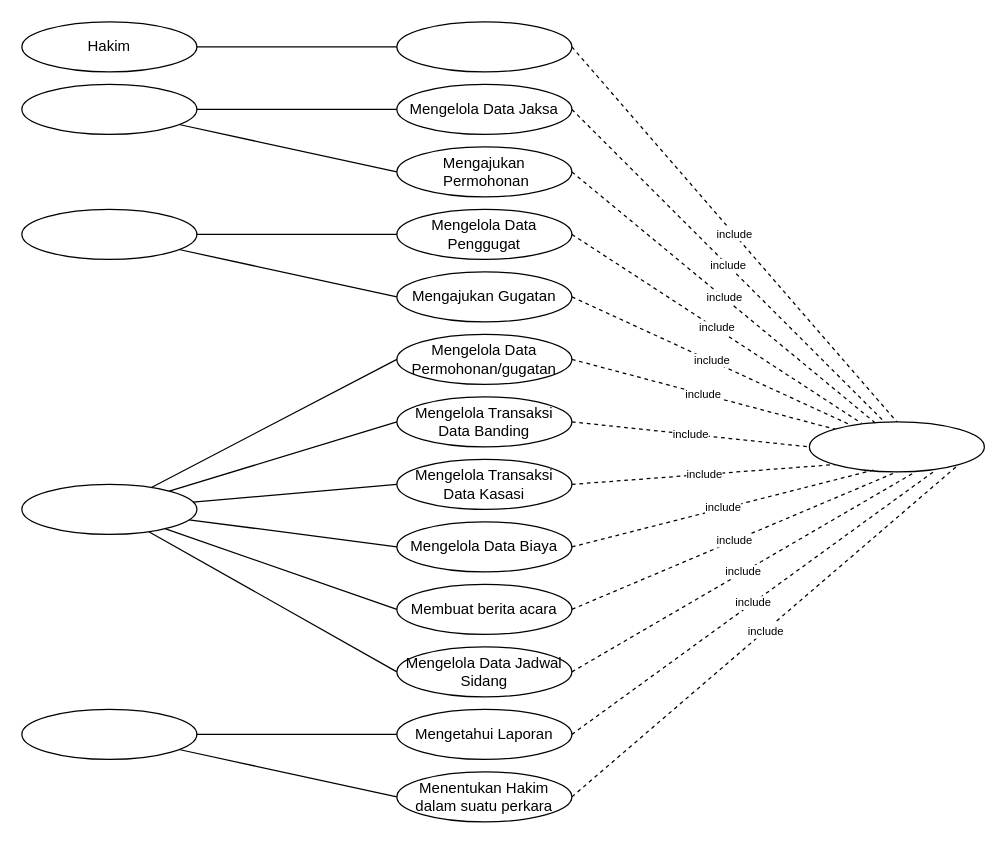
Some shapes in this 1006 by 844 pixel diagram are drawn without their labels. The shapes that lost their labels are listed below. From the top down, each one's box as (x1, y1, x2, y2) in pixels, then its label:
(396, 21, 572, 72): Mengelola Putusan Sidang
(21, 83, 197, 134): Jaksa
(21, 208, 197, 259): Penggugat
(808, 421, 984, 472): Login
(21, 483, 197, 534): Admin/Panitera
(21, 708, 197, 759): Pimpinan Kejaksaan
